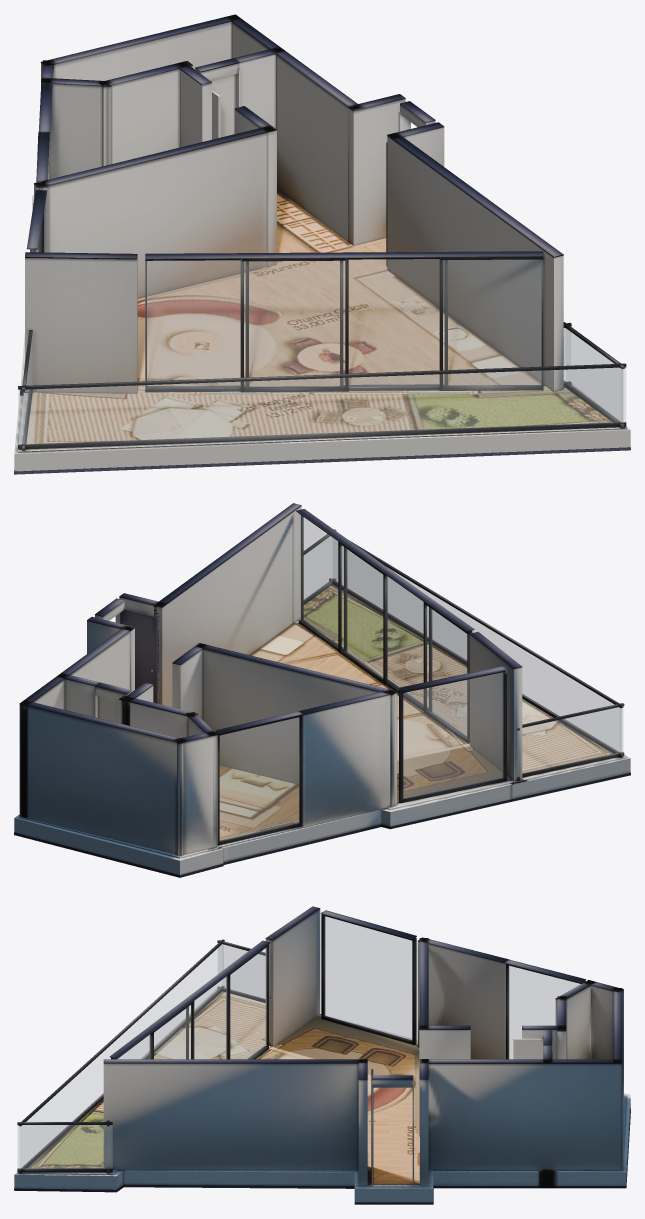
3 renders of one model, top to bottom at view 1: azimuth 30°, elevation 25°; view 2: azimuth 150°, elevation 25°; view 3: azimuth 270°, elevation 25°, orthographic. The views are drawn at different scales.
Visible parts, largest first — view 1: plan, glass2_m, railg3_m, railg2_m; view 2: plan, glass2_m, glass1_m, railg3_m, glass0_m, railg4_m, railg2_m; view 3: plan, glass1_m, glass2_m, railg3_m, railg2_m, glass0_m, railg4_m.
Boxes of the visible parts, x1=… form: plan: x1=14, y1=14, x2=630, y2=474; glass2_m: x1=145, y1=259, x2=541, y2=387; railg3_m: x1=18, y1=367, x2=625, y2=444; railg2_m: x1=564, y1=328, x2=623, y2=424; plan: x1=14, y1=503, x2=630, y2=877; glass2_m: x1=300, y1=515, x2=466, y2=736; glass1_m: x1=403, y1=672, x2=503, y2=798; railg3_m: x1=333, y1=538, x2=621, y2=754; glass0_m: x1=220, y1=717, x2=299, y2=841; railg4_m: x1=522, y1=707, x2=623, y2=773; railg2_m: x1=304, y1=536, x2=331, y2=600; plan: x1=14, y1=906, x2=630, y2=1204; glass1_m: x1=324, y1=916, x2=411, y2=1040; glass2_m: x1=118, y1=948, x2=266, y2=1058; railg3_m: x1=20, y1=944, x2=223, y2=1169; railg2_m: x1=17, y1=1125, x2=112, y2=1168; glass0_m: x1=508, y1=966, x2=580, y2=1058; railg4_m: x1=218, y1=944, x2=264, y2=998.
Size of the model in its own units: 9.17 by 2.62 by 11.85.
2 materials, 1 textured.
